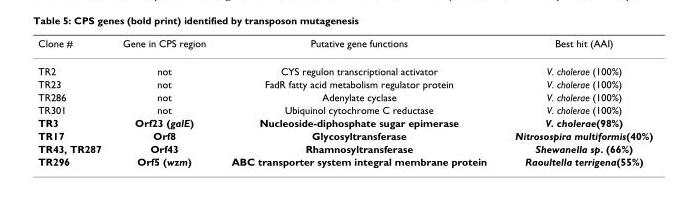table: (37, 36, 652, 167)
table column: (217, 36, 500, 167), (500, 36, 652, 167), (111, 36, 217, 167), (37, 36, 111, 167)
table column header: (37, 36, 652, 56)
table row: (37, 56, 652, 77), (37, 36, 652, 56), (37, 77, 652, 90), (37, 90, 652, 103), (37, 115, 652, 128), (37, 128, 652, 141), (37, 141, 652, 154), (37, 154, 652, 167), (37, 103, 652, 115)
